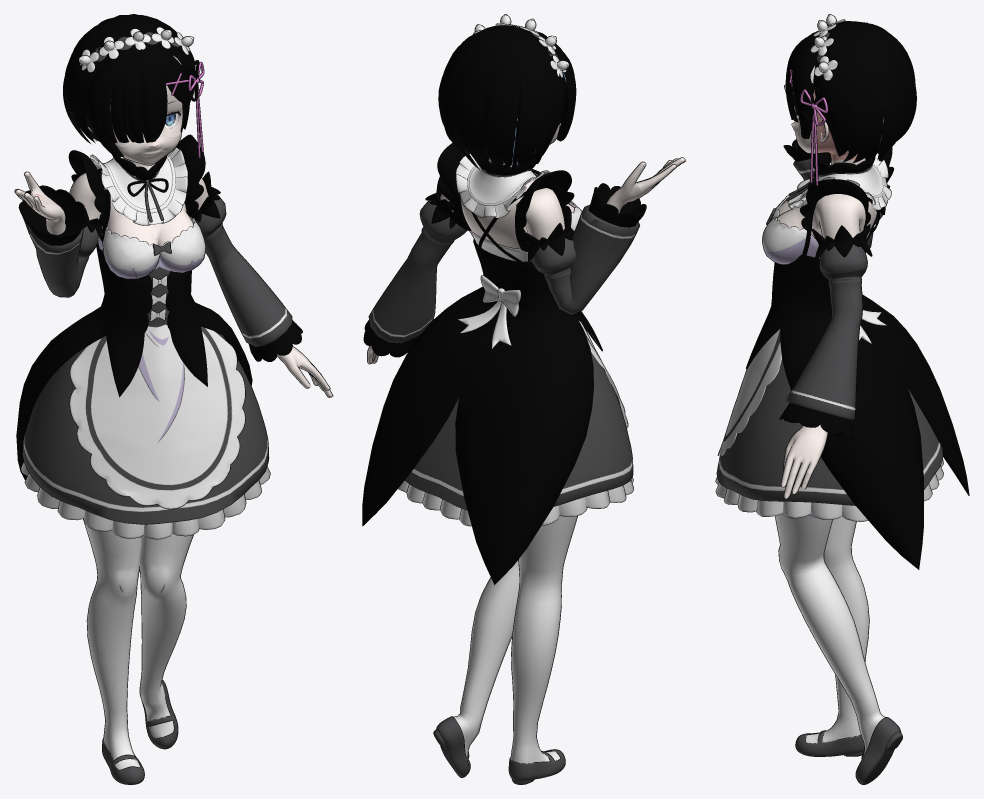
Rendered from Rem.fbx.
3 renders of one model, left to right at view 1: azimuth 30°, elevation 25°; view 2: azimuth 150°, elevation 25°; view 3: azimuth 270°, elevation 25°, orthographic.
Parts seen in each view (by area): view 1: obj2, object 12, object 8, object 11, object 14, object 2, object 6, object 4, object 10, object 26, object 16, object 21 (+1 smaller); view 2: obj2, object 8, object 14, object 11, object 2, object 16, object 4, object 10, object 26, object 6; view 3: obj2, object 8, object 11, object 14, object 2, object 16, object 12, object 10, object 6, object 4, object 26, object 17.
Boxes of the visible parts, x1,y1,x2,y2 form: obj2: (14,14,333,784); object 12: (70,324,245,508); object 8: (85,524,192,769); object 11: (22,323,268,524); object 14: (25,193,291,346); object 2: (15,157,332,397); object 6: (98,209,205,325); object 4: (90,147,187,225); object 10: (21,462,269,538); object 26: (79,27,203,157); object 16: (102,179,177,784); object 21: (116,132,181,164); obj2: (362,14,685,784); object 8: (454,516,577,763); object 14: (369,200,639,343); object 11: (405,352,632,509); object 2: (367,158,685,363); object 16: (434,275,565,784); object 4: (456,154,549,217); object 10: (398,478,633,525); object 26: (473,14,568,77); object 6: (470,201,581,261); obj2: (715,14,969,784); object 8: (775,513,884,754); object 11: (717,359,942,505); object 14: (786,158,882,420); object 2: (777,85,876,498); object 16: (766,182,902,784); object 12: (718,329,781,455); object 10: (716,460,943,521); object 6: (762,192,869,264); object 4: (788,153,891,209); object 26: (789,14,845,185); object 17: (793,89,857,155).
Size of the model in its own units: 0.0932 by 0.2105 by 0.0655.
Materials: 27 (25 with a texture image).
